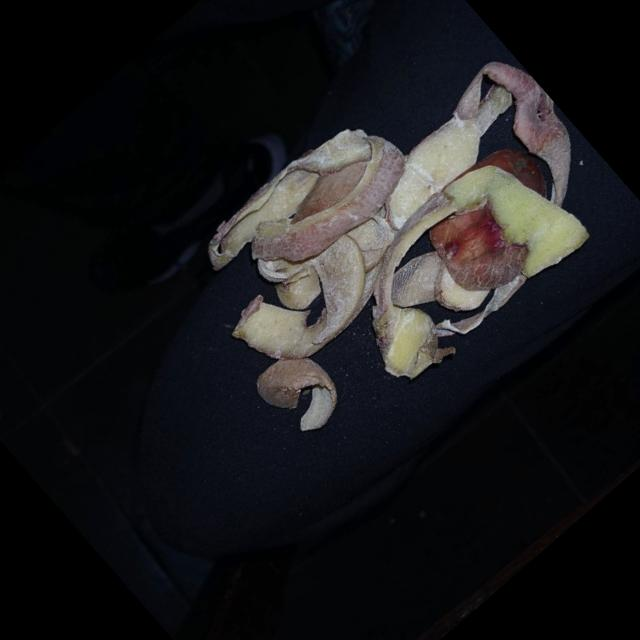organic: (158, 8, 635, 470)
